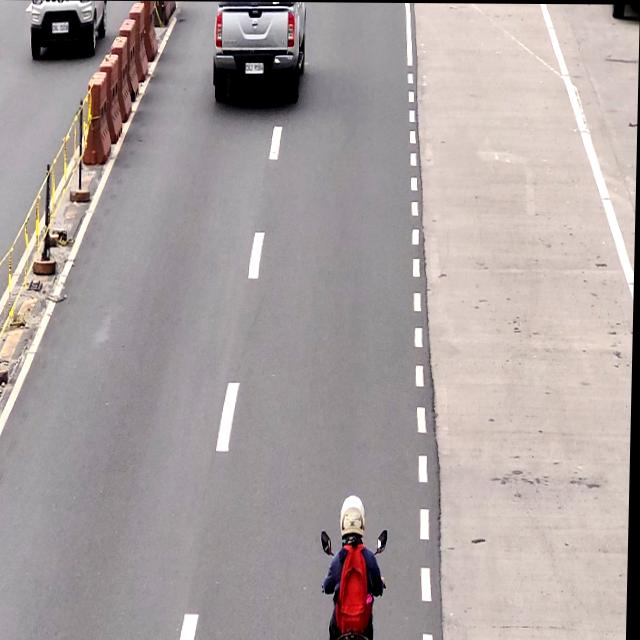Car: (212, 1, 308, 106)
License-Plate: (243, 61, 265, 77)
Motorcycle: (327, 495, 382, 640)
